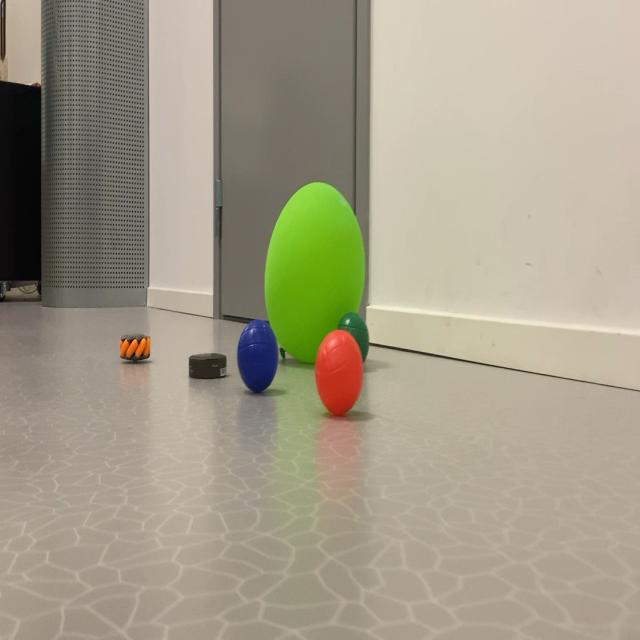7: (312, 324, 366, 428)
green ball: (233, 296, 282, 416)
red ball: (332, 298, 376, 364)
